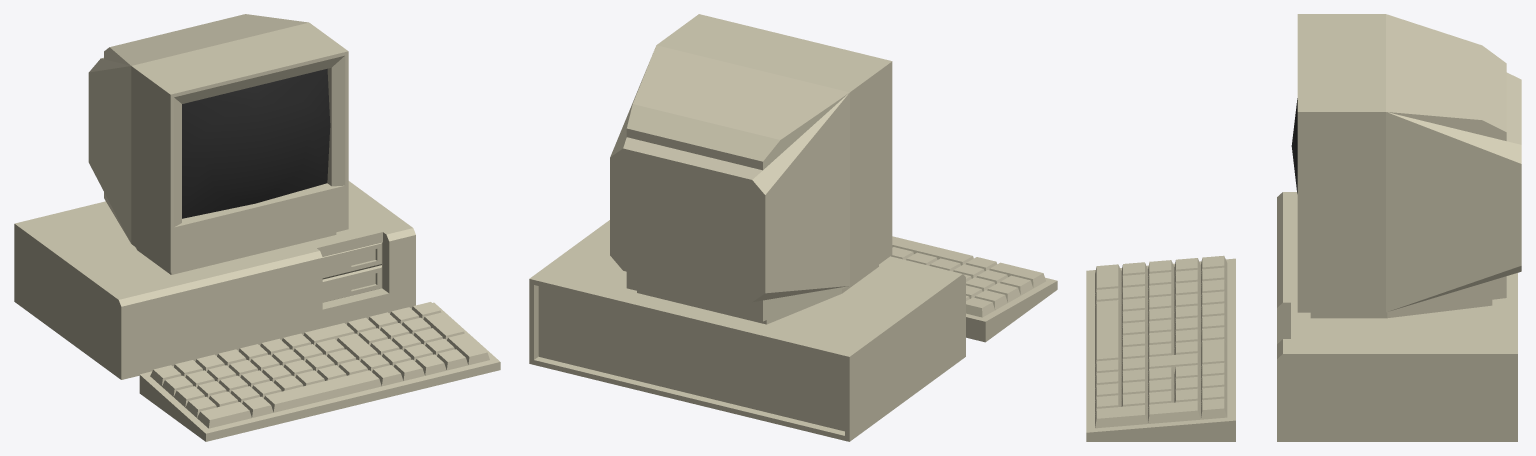
Rendered from OldRetroPc.glb.
3 views of the same model, side by side, from view 1: azimuth 30°, elevation 25°; view 2: azimuth 150°, elevation 25°; view 3: azimuth 270°, elevation 25° (orthographic). The views are drawn at different scales.
Parts seen in each view (by area): view 1: Monitor, Computer, Keyboard; view 2: Monitor, Computer, Keyboard; view 3: Monitor, Computer, Keyboard.
Boxes of the visible parts, x1=… form: Monitor: x1=88, y1=14, x2=348, y2=274; Computer: x1=14, y1=181, x2=415, y2=379; Keyboard: x1=139, y1=302, x2=500, y2=441; Monitor: x1=610, y1=14, x2=892, y2=324; Computer: x1=529, y1=220, x2=965, y2=441; Keyboard: x1=891, y1=236, x2=1057, y2=342; Monitor: x1=1291, y1=14, x2=1521, y2=318; Computer: x1=1277, y1=192, x2=1517, y2=441; Keyboard: x1=1086, y1=255, x2=1235, y2=441.
Size of the model in its own units: 0.8277 by 0.7099 by 0.9394.
